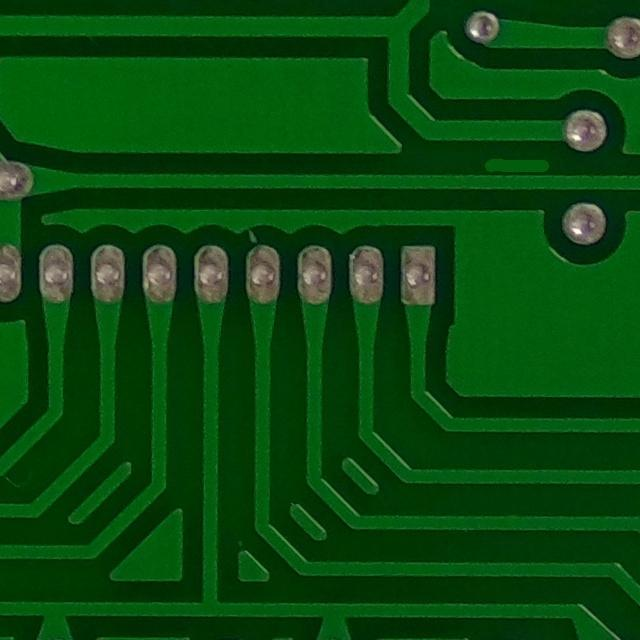spurious_copper: (471, 141, 564, 181)
